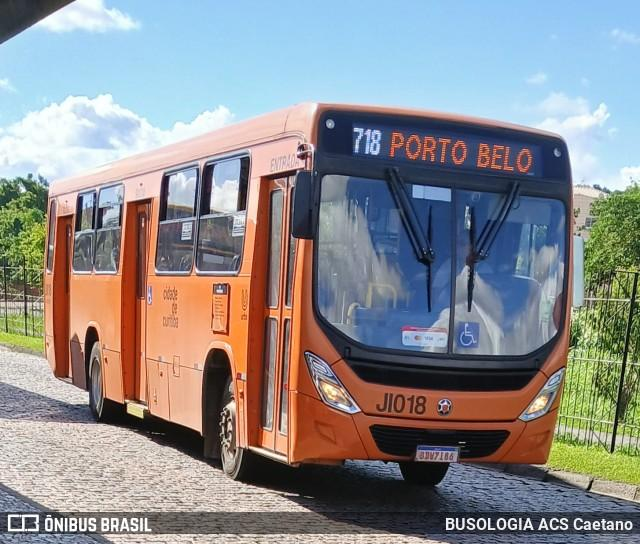PORTO BELO: (384, 125, 537, 179)
